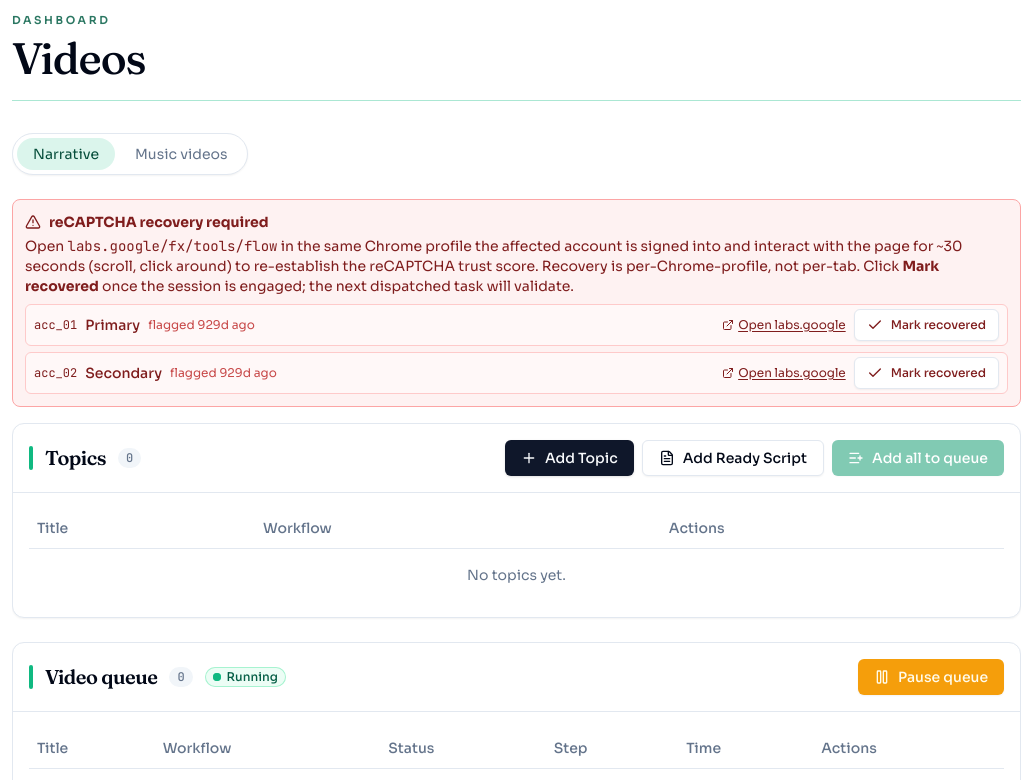
VideosClient layout › mounts FlowRecoveryBanner when flowRecoveryAccounts is non-empty and removes a row optimistically after Mark recovered
Expected: the text "reCAPTCHA recovery required" is shown, [49,212,269,232]
Expected: the text "Primary" is shown, [85,315,140,335]
Click the button "Mark recovered" in the row of "acc_01".
click(926, 325)  # box [854,309,999,341]
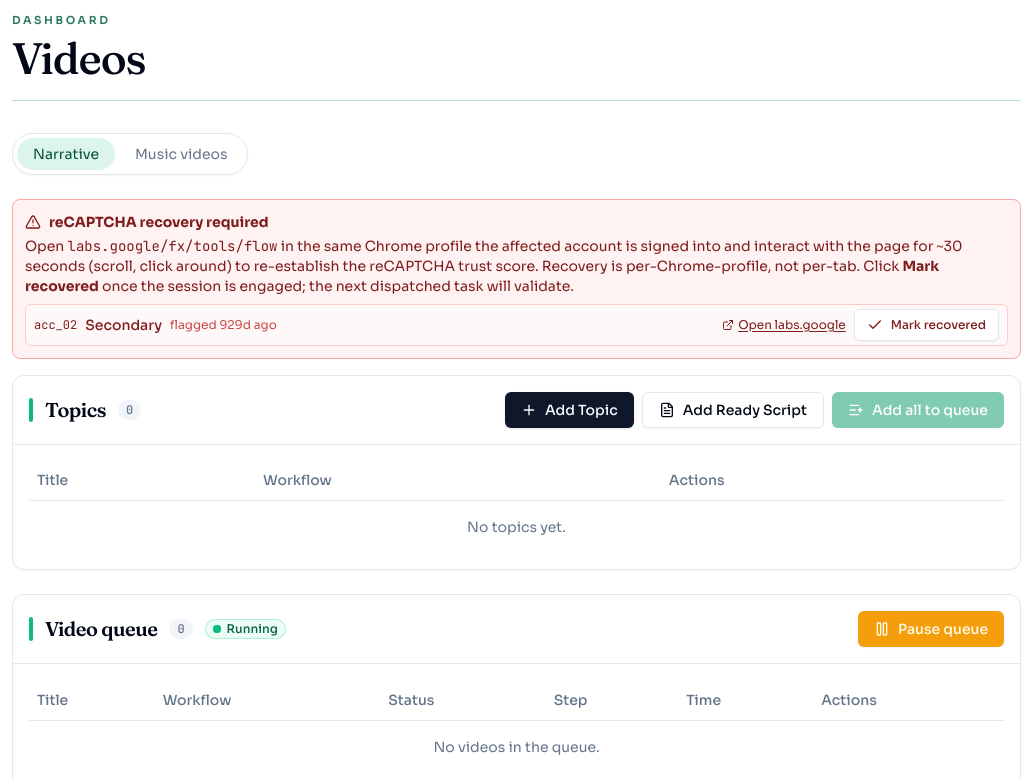
Expected: the text "Secondary" is shown, [85,315,162,335]
Now the text "Primary" is gone
